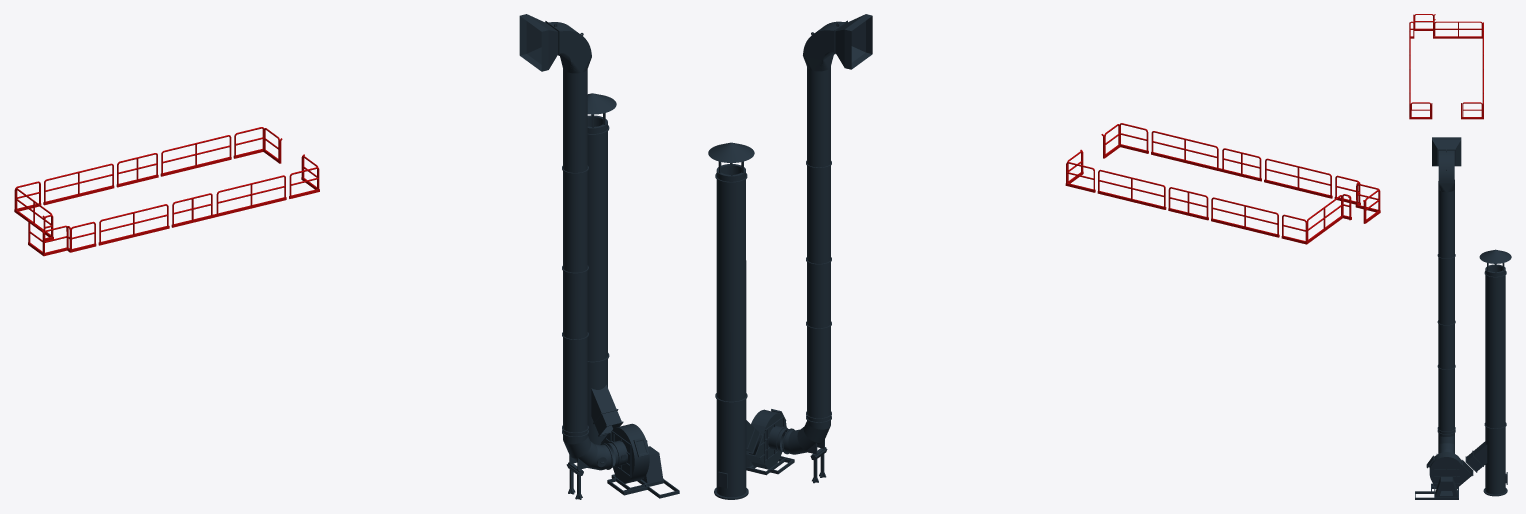
3 renders of one model, left to right at view 1: azimuth 30°, elevation 25°; view 2: azimuth 150°, elevation 25°; view 3: azimuth 270°, elevation 25°, orthographic. The views are drawn at different scales.
Visible parts, largest first — view 1: Obj3d66-5391125-23-710, Obj3d66-5391125-9-664; view 2: Obj3d66-5391125-23-710, Obj3d66-5391125-9-664; view 3: Obj3d66-5391125-23-710, Obj3d66-5391125-9-664.
Boxes of the visible parts, x1,y1,x2,y2 form: Obj3d66-5391125-23-710: (519,14,679,499); Obj3d66-5391125-9-664: (14,127,319,256); Obj3d66-5391125-23-710: (708,14,872,499); Obj3d66-5391125-9-664: (1065,123,1380,244); Obj3d66-5391125-23-710: (1415,137,1511,499); Obj3d66-5391125-9-664: (1409,14,1483,119).
Bounding box in the file's own units: 428 × 310 × 89.34.
